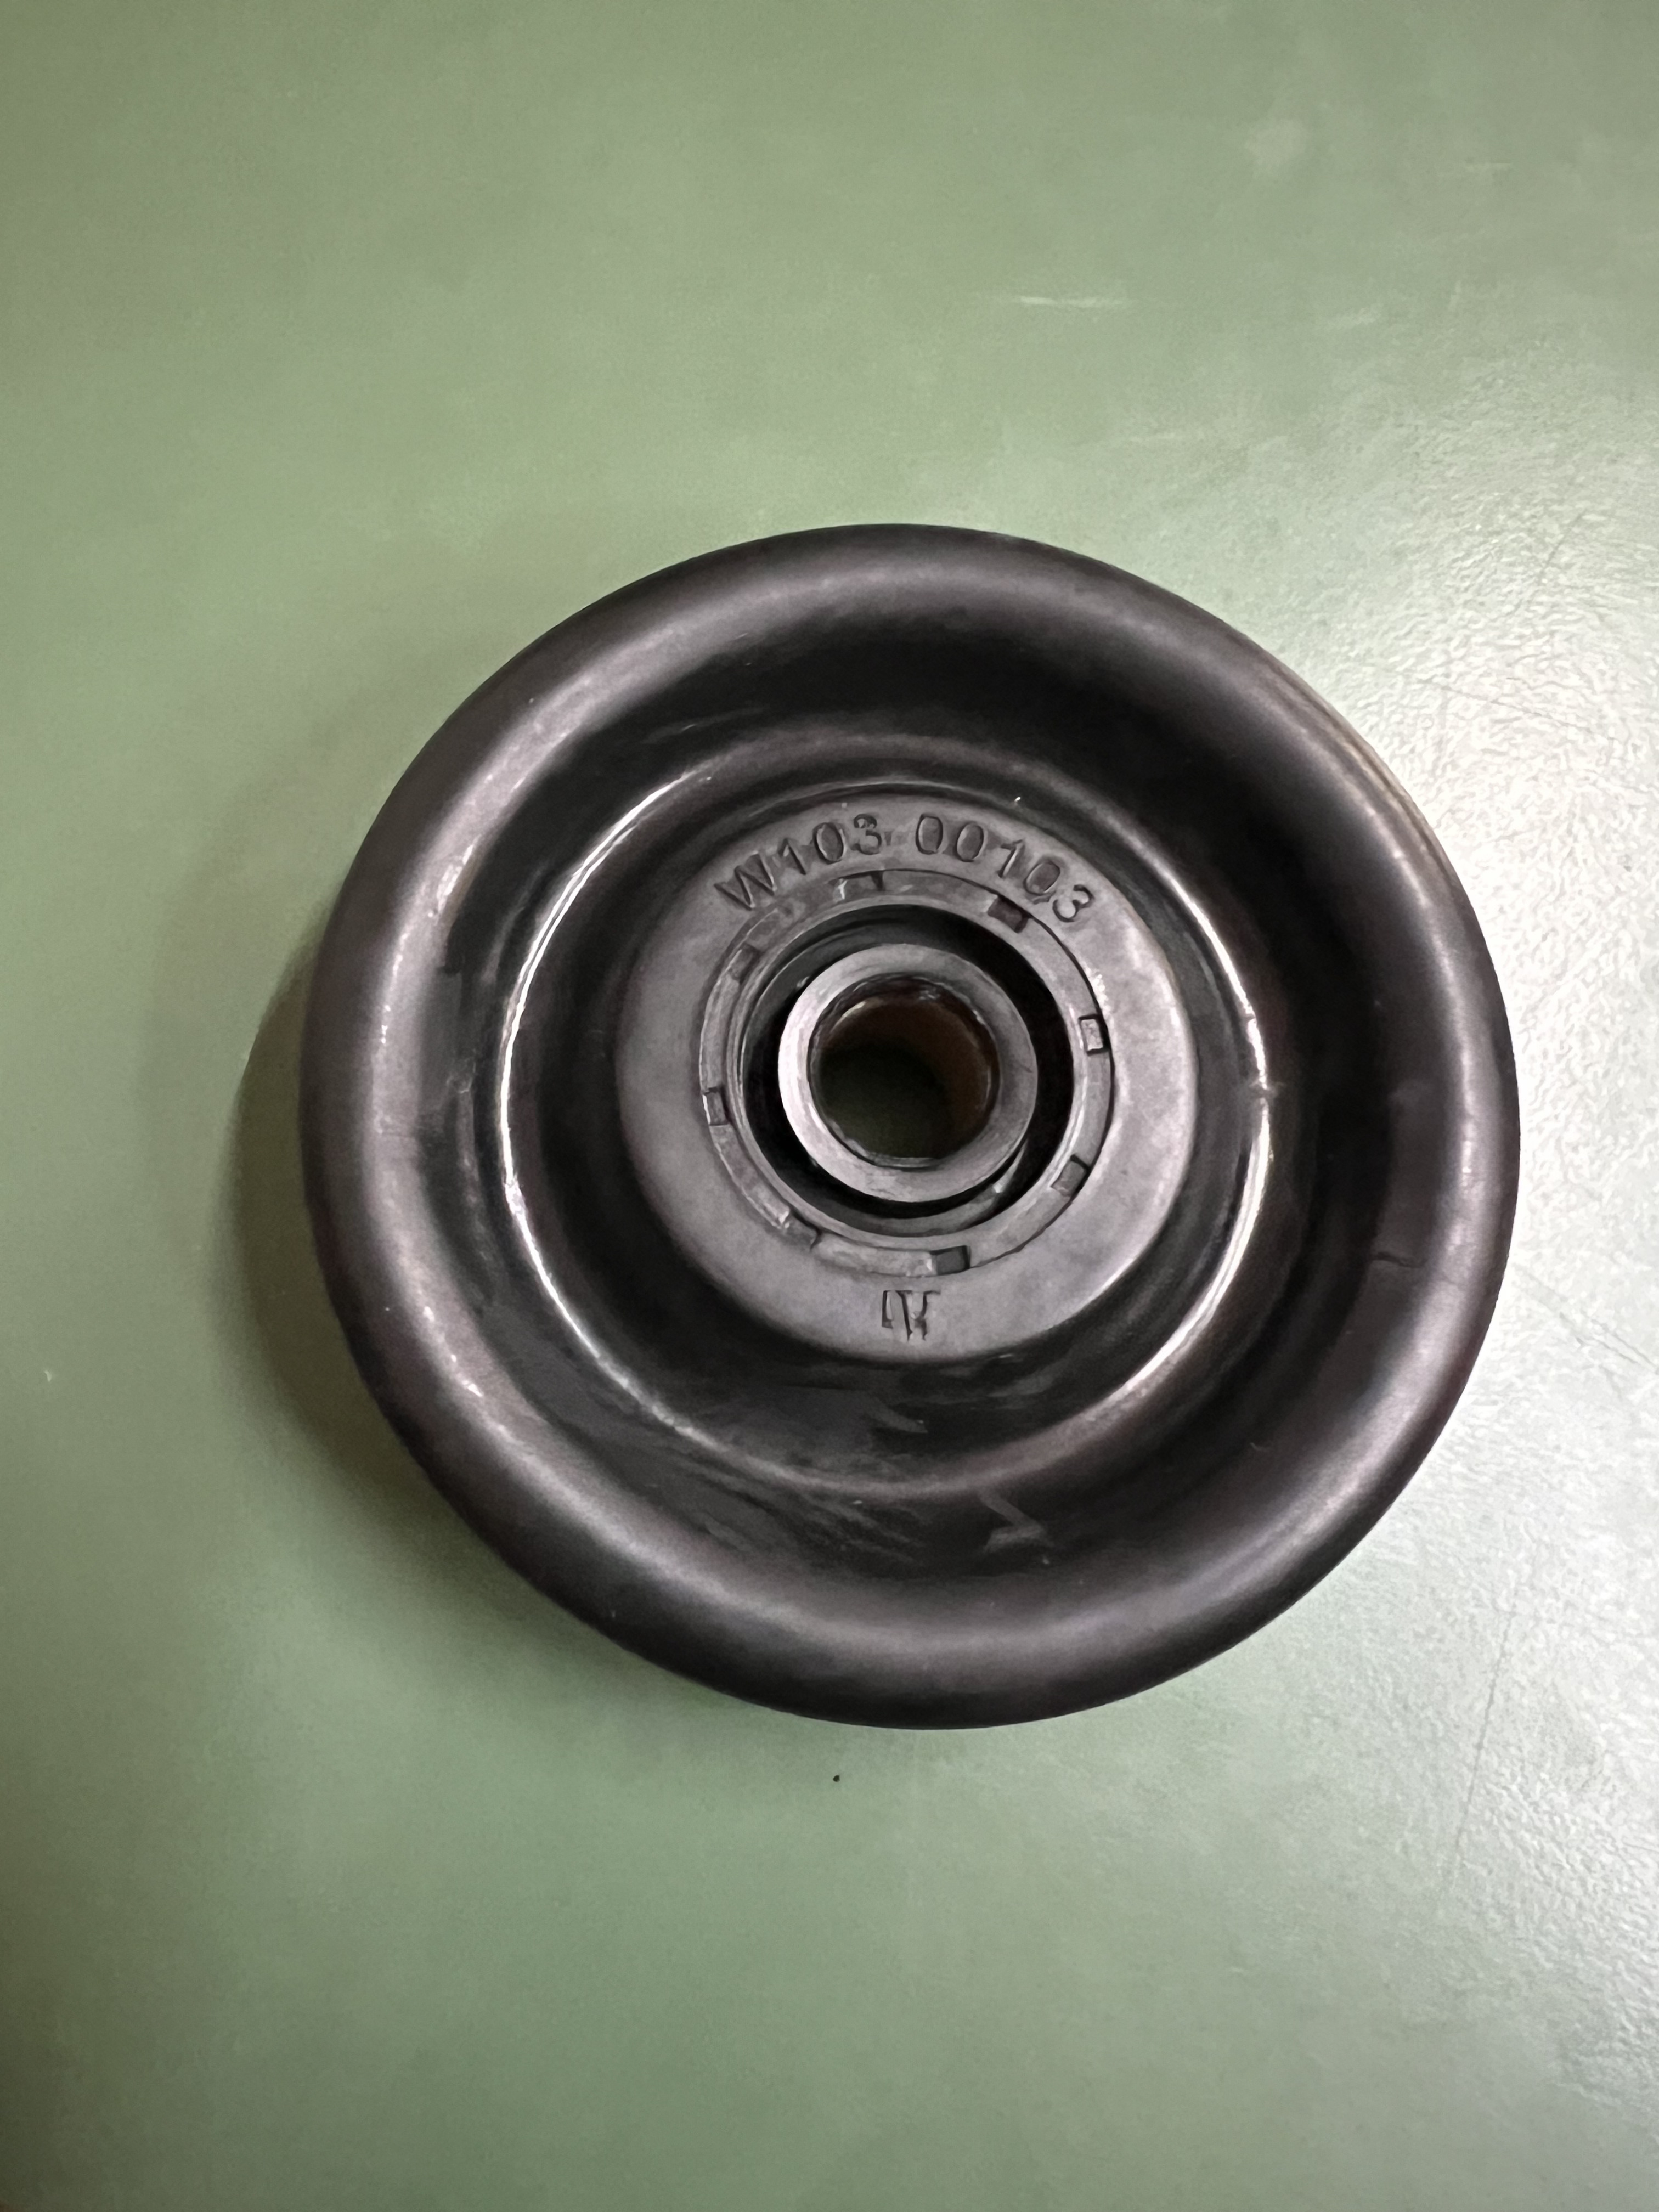lever: (281, 521, 1546, 1738)
